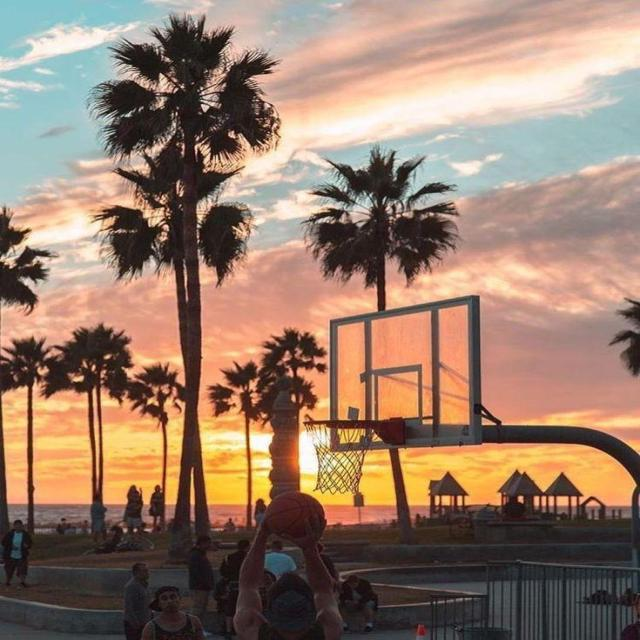hoop: (304, 399, 438, 499)
